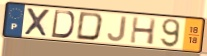9: (158, 18, 182, 49)
D: (75, 11, 106, 42), (50, 9, 76, 40)
H: (129, 15, 158, 46)
J: (106, 15, 128, 43)
X: (23, 6, 52, 38)
